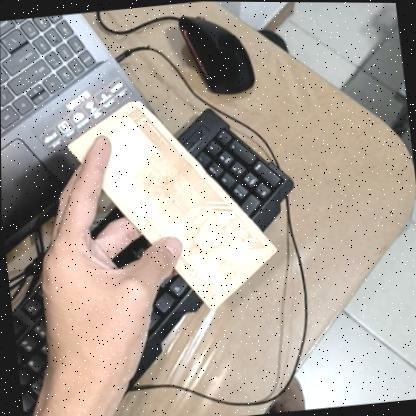five-back-vef: (60, 84, 283, 322)
